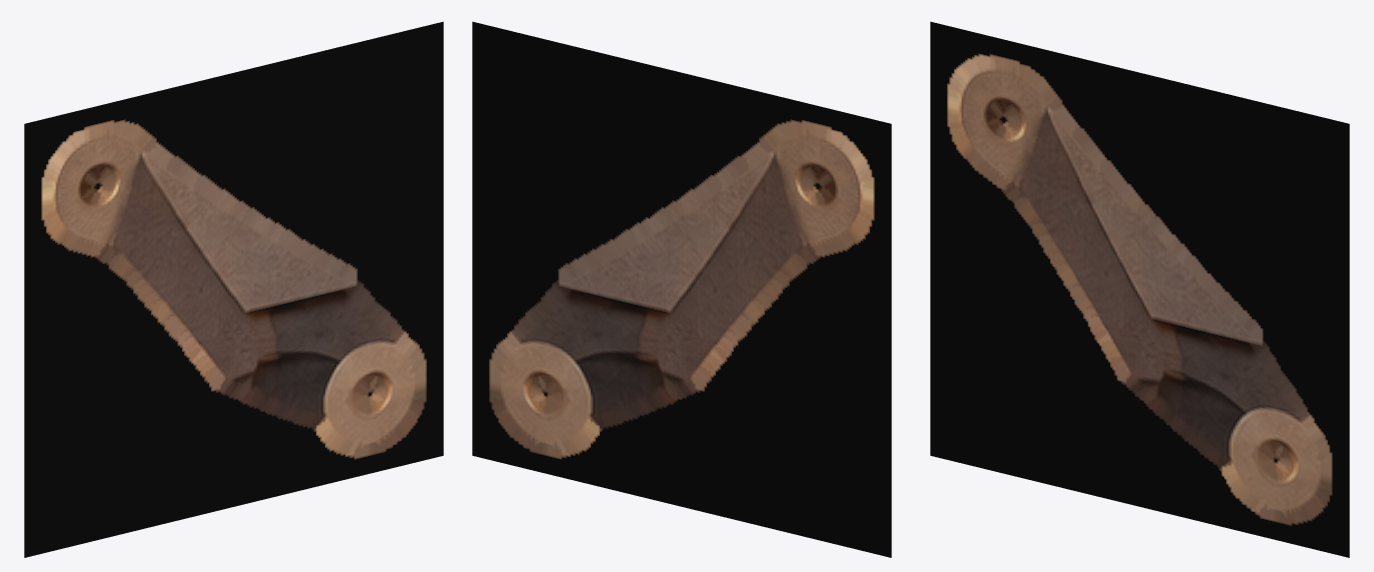
File: Variant08Upper.glb
3 views of the same model, side by side, from view 1: azimuth 30°, elevation 25°; view 2: azimuth 150°, elevation 25°; view 3: azimuth 330°, elevation 25° (orthographic).
Visible parts, largest first — view 1: PaperVolume; view 2: PaperVolume; view 3: PaperVolume.
Part boxes in pixels (left/top/right/bottom): PaperVolume: left=24, top=21, right=443, bottom=557; PaperVolume: left=472, top=21, right=891, bottom=557; PaperVolume: left=930, top=21, right=1349, bottom=557.
Size of the model in its own units: 1.88 by 1.86 by 0.08.
Materials: 3 (2 with a texture image).
